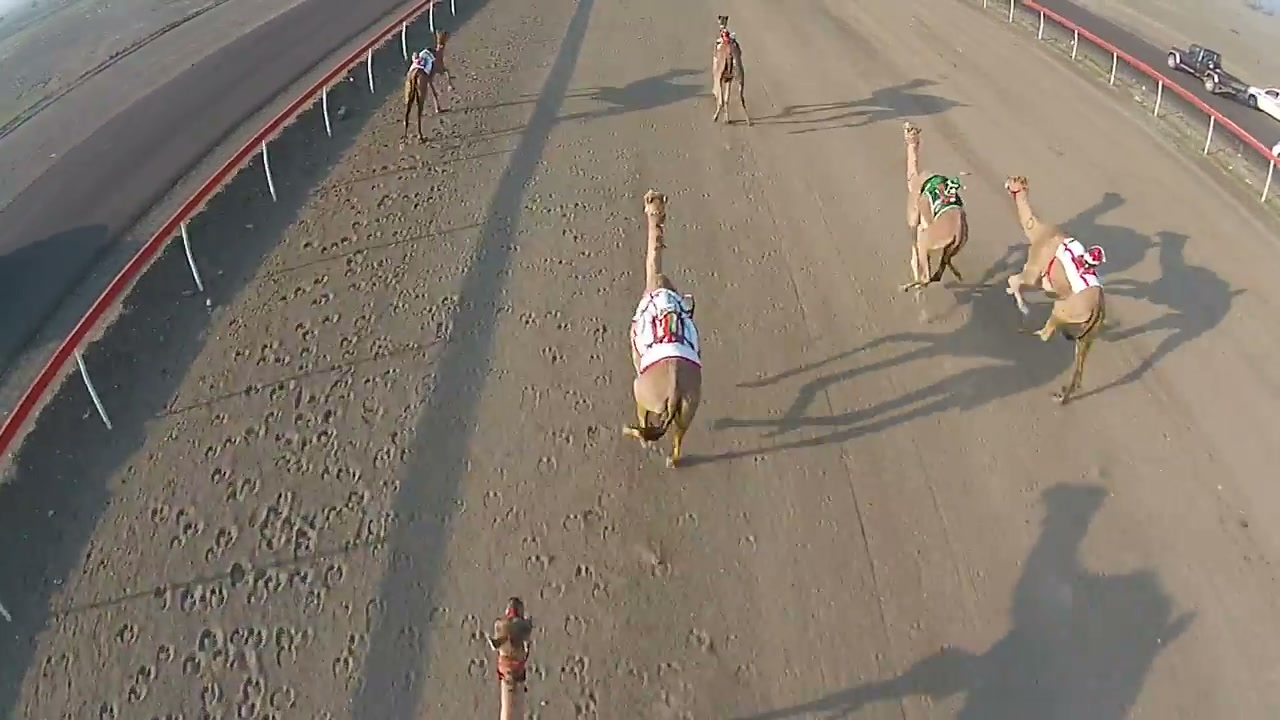animal_footprint: (106, 140, 468, 706), (495, 253, 640, 719)
